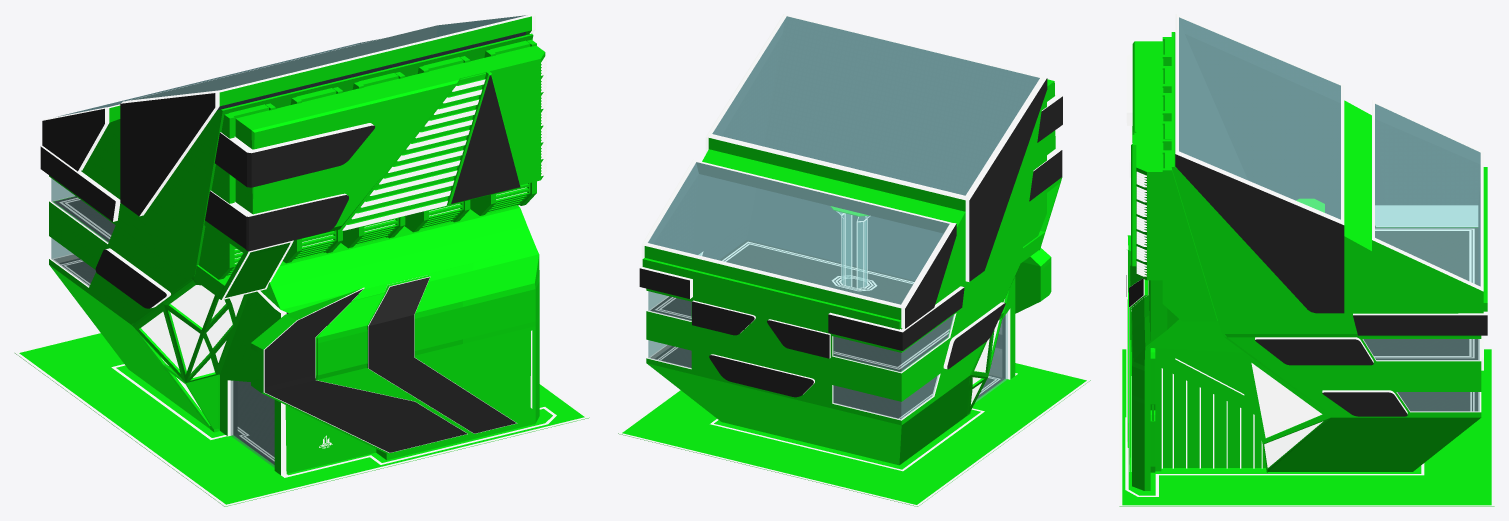
Rendered from Dhingia Builds 12 Size 2x2 Green.glb.
3 renders of one model, left to right at view 1: azimuth 30°, elevation 25°; view 2: azimuth 150°, elevation 25°; view 3: azimuth 270°, elevation 25°, orthographic. The views are drawn at different scales.
Parts seen in each view (by area): view 1: 0 main Building, Ground, Glass, InnerBox, Lights; view 2: 0 main Building, Glass, InnerBox, Ground, Lights, Lift Glass; view 3: 0 main Building, Glass, InnerBox, Ground, Lights.
Part boxes in pixels (box(x1,y1,x2,y2)): 0 main Building: box(40, 14, 546, 475); Ground: box(14, 331, 589, 506); Glass: box(51, 14, 529, 467); InnerBox: box(54, 15, 525, 464); Lights: box(59, 197, 556, 477); 0 main Building: box(639, 14, 1062, 465); Glass: box(645, 14, 1042, 419); InnerBox: box(648, 16, 1039, 418); Ground: box(618, 361, 1090, 506); Lights: box(655, 241, 1017, 471); Lift Glass: box(830, 206, 870, 287); 0 main Building: box(1126, 14, 1487, 490); Glass: box(1177, 15, 1482, 411); InnerBox: box(1179, 17, 1480, 411); Ground: box(1119, 348, 1494, 506); Lights: box(1125, 228, 1474, 496).
Size of what is drawn, in the model's own units: 32 by 32.41 by 32.
Materials: 7 (3 with a texture image).
